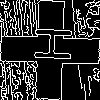H: (25, 25, 72, 63)
